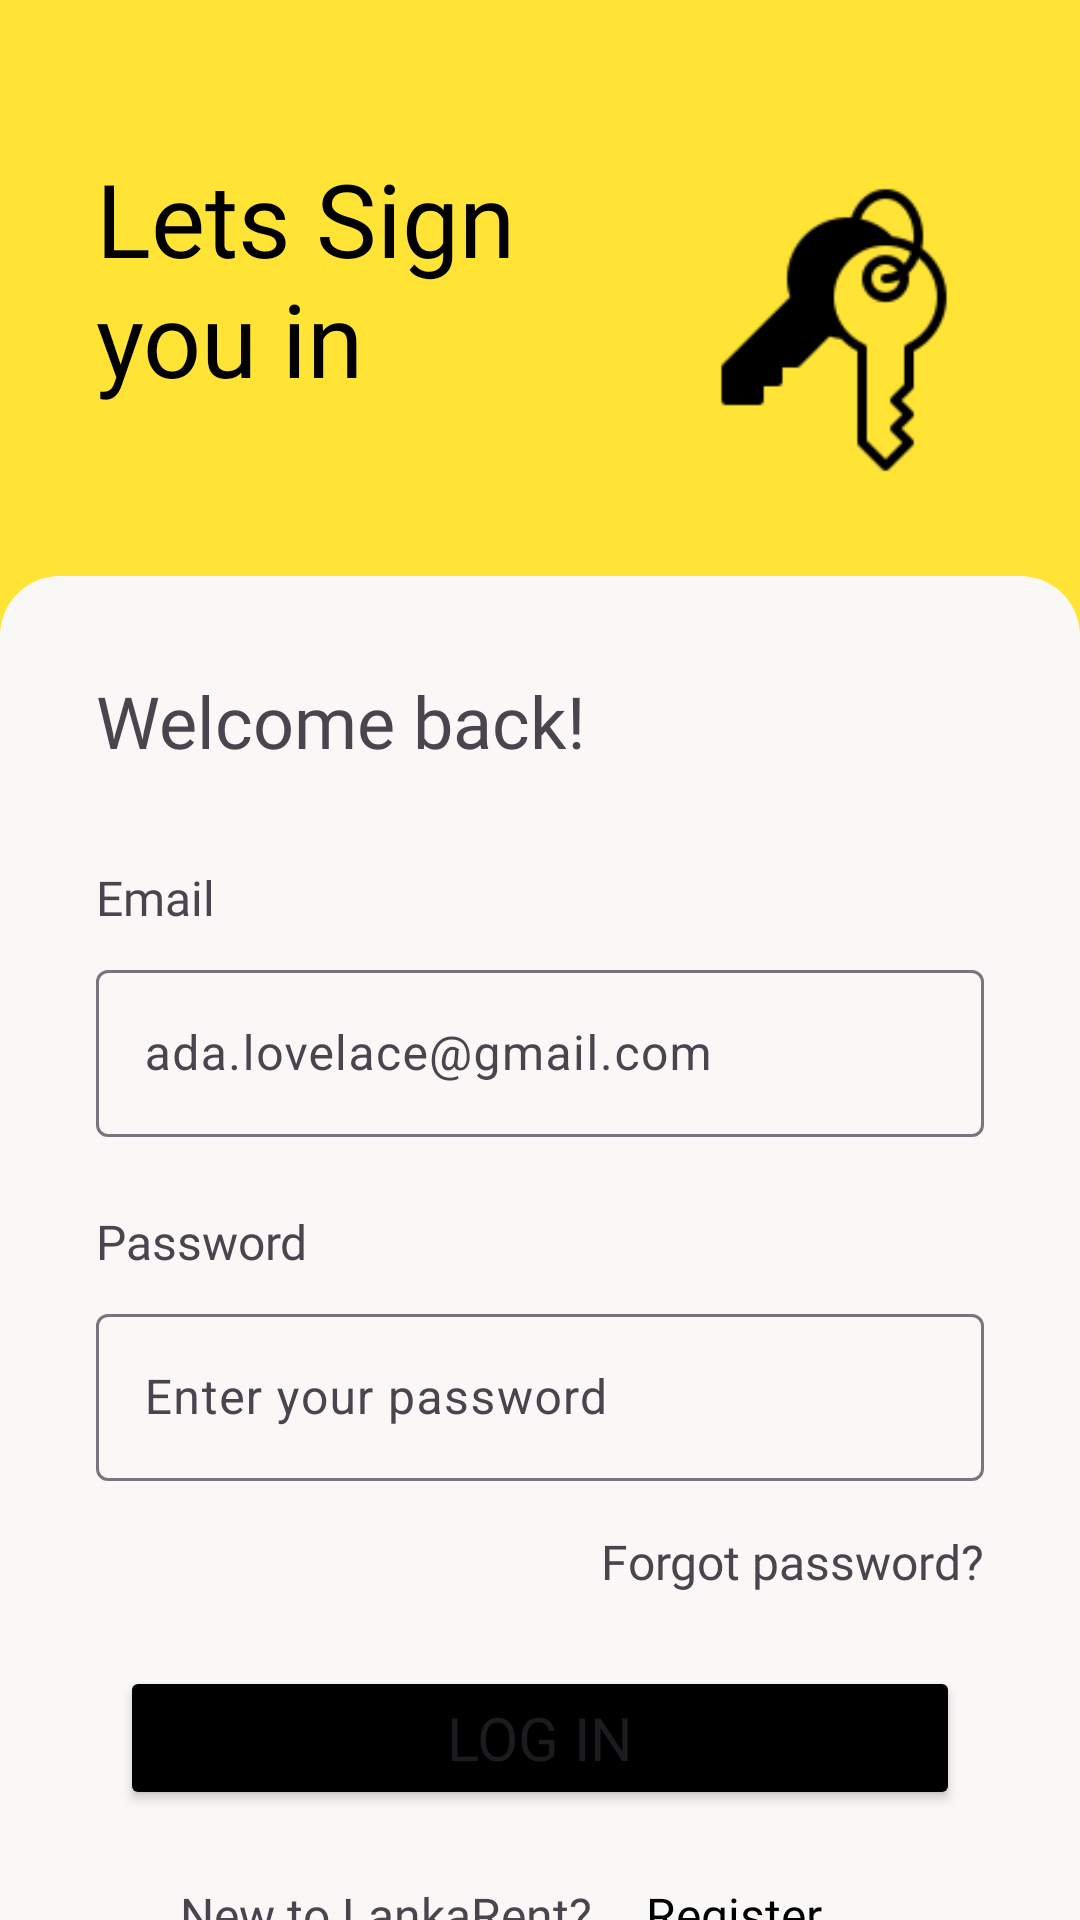

Point at icon controls on the screen. Image size 1080 x 1920, points as (x=x, y=y).
door key: (x=834, y=330)
